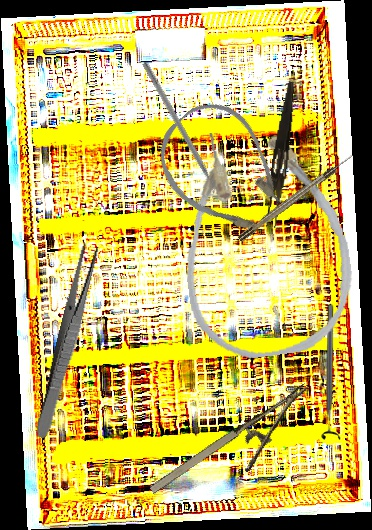Cannula: (167, 116, 362, 366), (140, 86, 308, 258)
Chopper: (134, 60, 223, 204)
Dressing Forceps: (33, 241, 101, 441), (265, 80, 297, 229)
Fixation Ring: (320, 304, 341, 440)
Hook Surgical: (236, 152, 356, 243)
Needle Holder: (146, 382, 329, 521)
